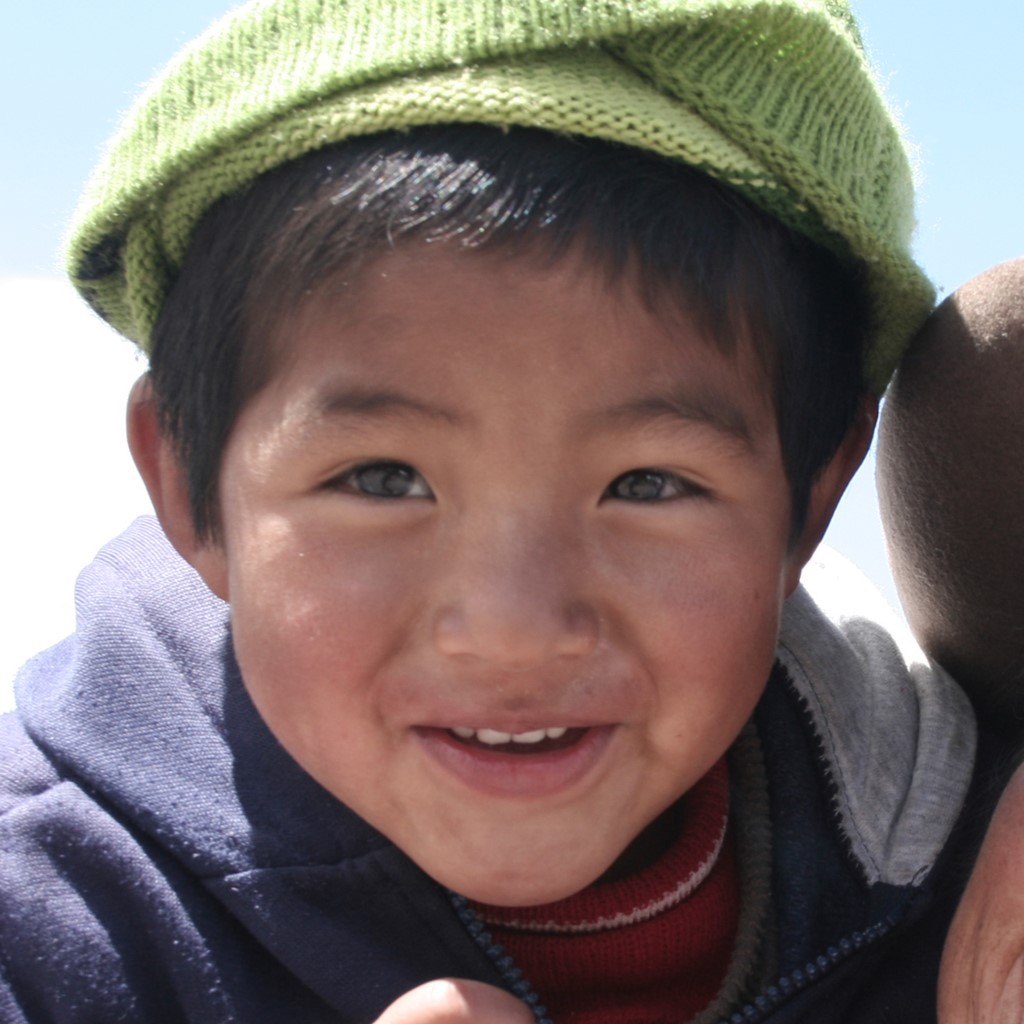sin_mascara: (166, 126, 817, 919)
